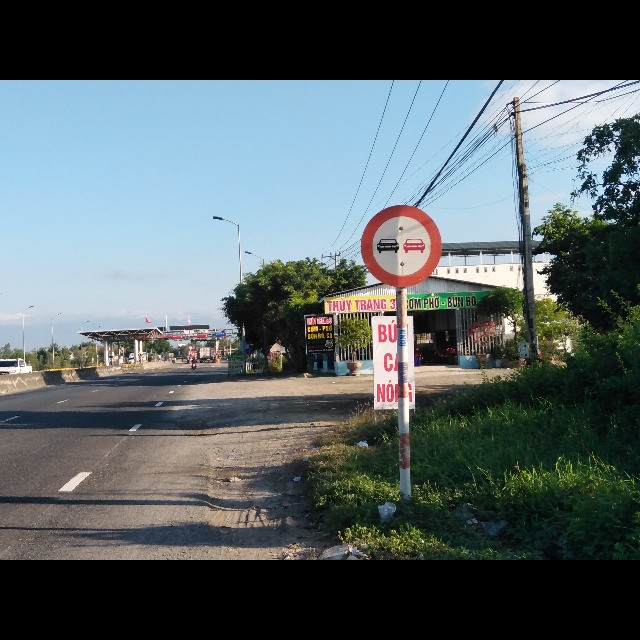Cấm vượt: (359, 203, 444, 287)
